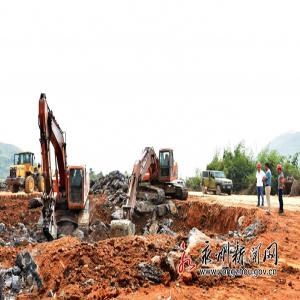none: (265, 163, 271, 172)
red: (277, 165, 283, 175), (257, 162, 262, 173)
